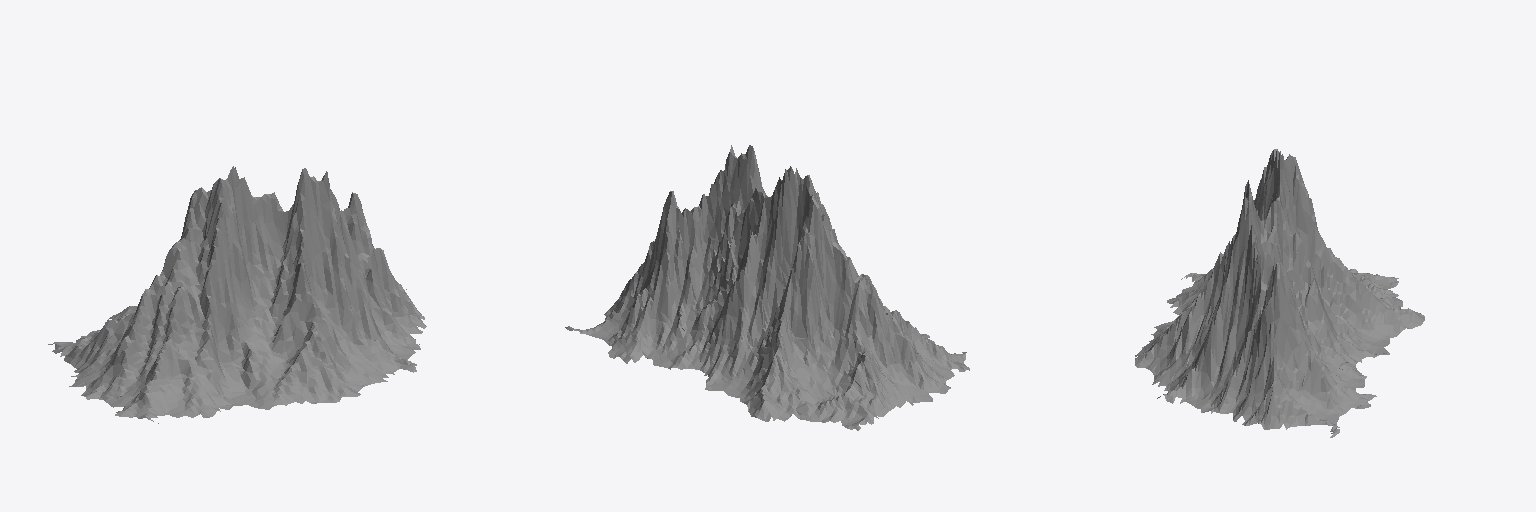
File: Mountain03.obj
3 views of the same model, side by side, from view 1: azimuth 30°, elevation 25°; view 2: azimuth 150°, elevation 25°; view 3: azimuth 270°, elevation 25° (orthographic).
Parts seen in each view (by area): view 1: mt3; view 2: mt3; view 3: mt3.
Part boxes in pixels (bbox=[...]): mt3: bbox=[48, 166, 426, 423]; mt3: bbox=[565, 145, 969, 430]; mt3: bbox=[1135, 149, 1424, 437].
Bounding box in the file's own units: 671 × 349 × 477.